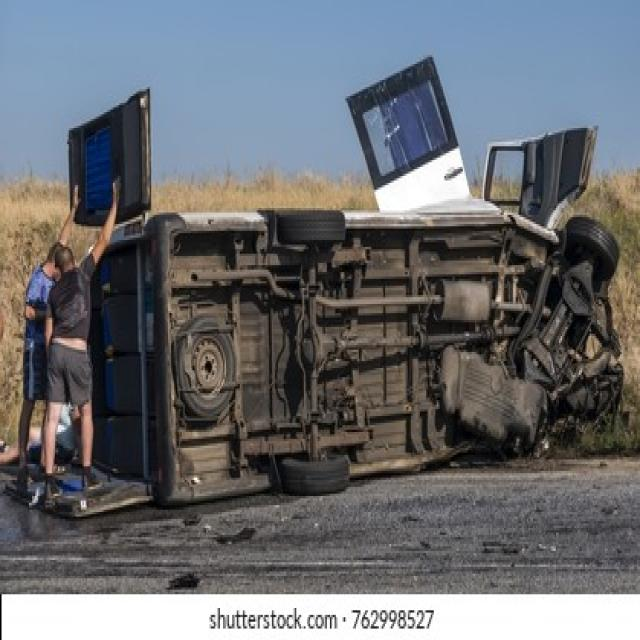Accident: (23, 57, 640, 516)
